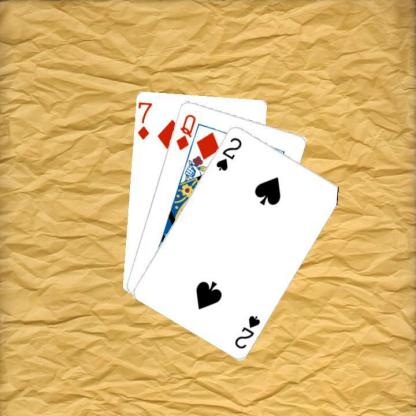2S: (213, 134, 243, 172), (232, 312, 262, 350)
7D: (135, 99, 153, 141)
QD: (173, 111, 197, 151)
